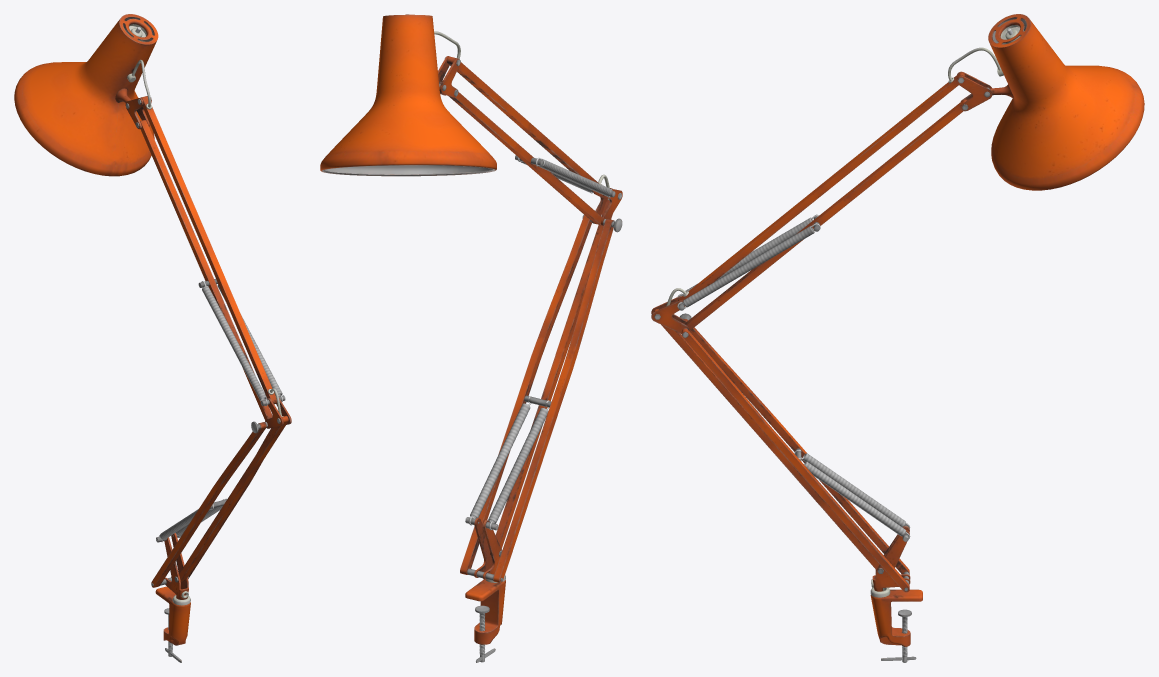
File: desk_lamp_arm_01.obj
3 views of the same model, side by side, from view 1: azimuth 30°, elevation 25°; view 2: azimuth 150°, elevation 25°; view 3: azimuth 270°, elevation 25° (orthographic). The views are drawn at different scales.
Size of the model in its own units: 0.226 by 1 by 0.6877.
1 material, 1 textured.
